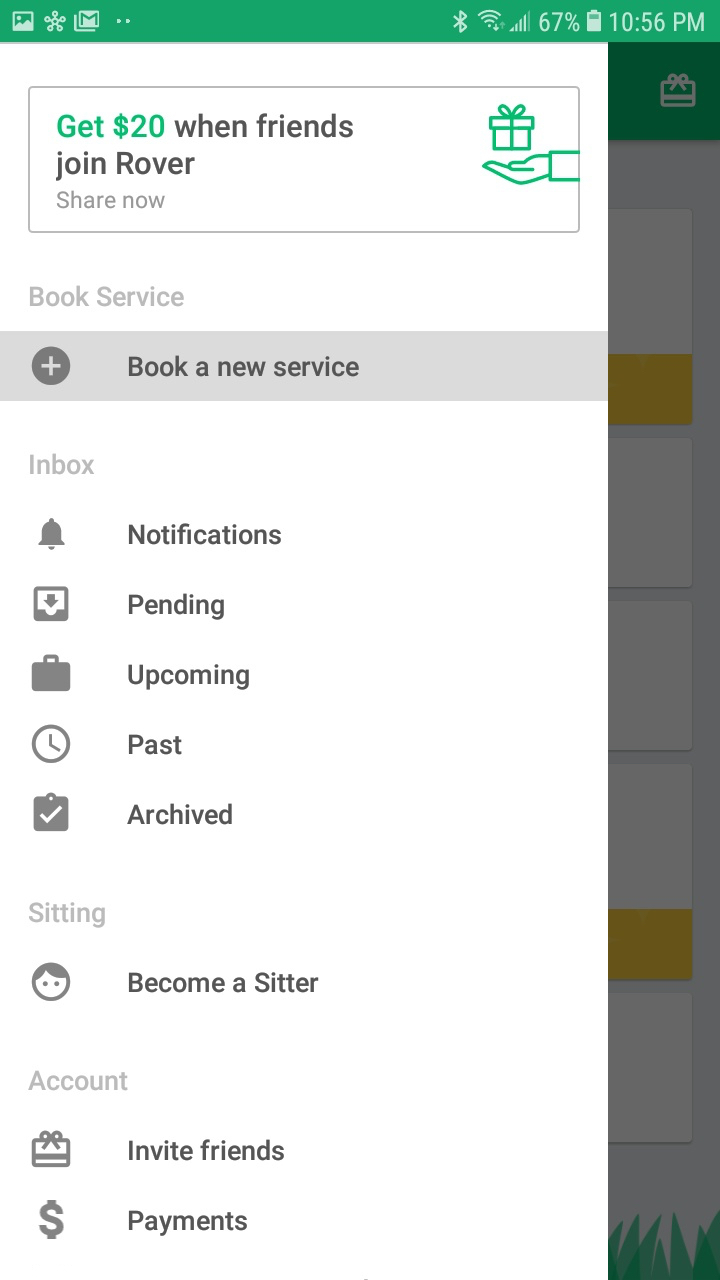Drawer: (1, 43, 608, 1280)
Icon: (481, 105, 580, 187), (32, 724, 72, 764), (32, 346, 72, 386), (32, 1130, 72, 1168), (32, 654, 72, 692), (34, 792, 70, 832), (33, 585, 70, 622), (38, 1199, 65, 1239), (39, 518, 67, 551)
Image: (32, 962, 72, 1002)
Text: (57, 113, 354, 140), (129, 355, 360, 378), (56, 151, 196, 183), (129, 972, 320, 994), (129, 1139, 285, 1162), (30, 285, 185, 308), (129, 523, 283, 546), (128, 663, 250, 691), (129, 1210, 249, 1237), (129, 592, 226, 621), (126, 802, 233, 826), (28, 1070, 129, 1092), (29, 901, 107, 929), (57, 190, 166, 210), (31, 454, 96, 476), (129, 734, 183, 756)
UpperTaskBar: (1, 1, 720, 43)
